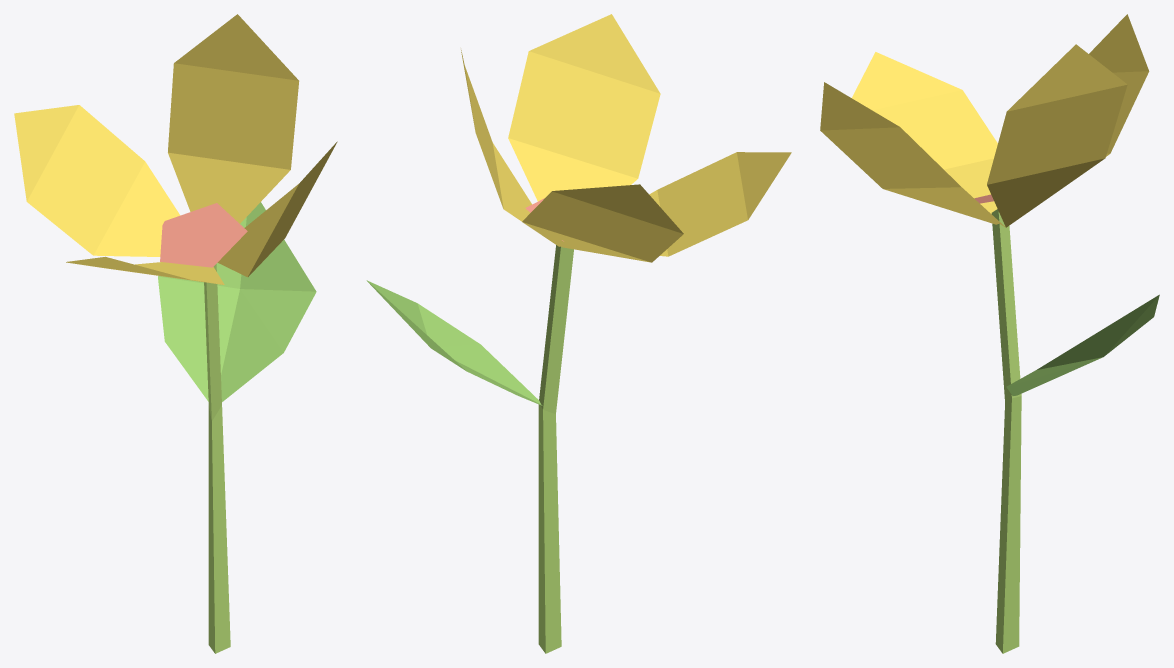
The model's file is flower2.fbx.
The picture shows the model from 3 angles, left to right: view 1: azimuth 30°, elevation 25°; view 2: azimuth 150°, elevation 25°; view 3: azimuth 270°, elevation 25°; orthographic projection. The views are drawn at different scales.
Parts seen in each view (by area): view 1: Flower_d_TwoS_05; view 2: Flower_d_TwoS_05; view 3: Flower_d_TwoS_05.
Boxes of the visible parts, <box> form: Flower_d_TwoS_05: <box>14,14,337,653</box>; Flower_d_TwoS_05: <box>366,14,791,653</box>; Flower_d_TwoS_05: <box>820,14,1159,653</box>.
Size of the model in its own units: 19.21 by 19.84 by 39.38.
1 material, 1 textured.
